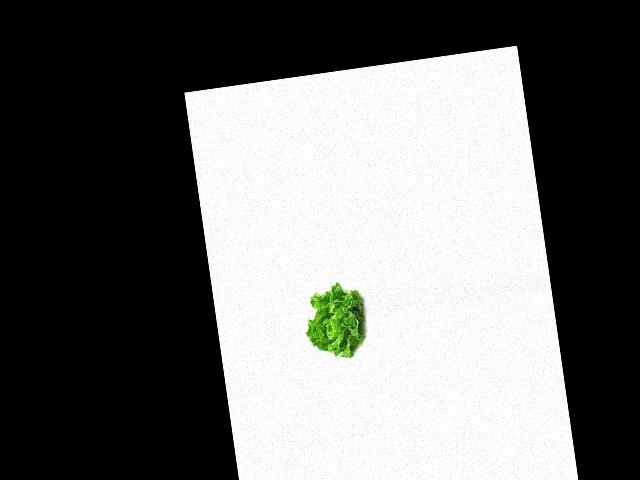lettuce: (300, 280, 371, 361)
